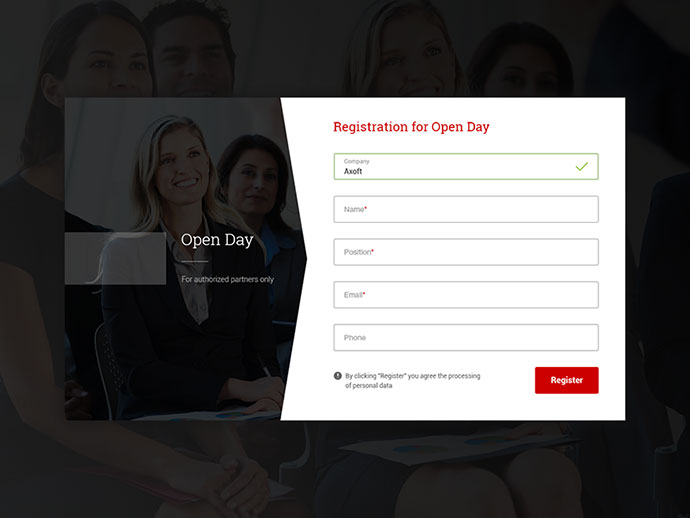button: (534, 366, 599, 395)
field: (333, 152, 599, 180), (333, 194, 599, 222), (333, 237, 599, 265), (334, 280, 600, 308), (334, 322, 600, 350)
